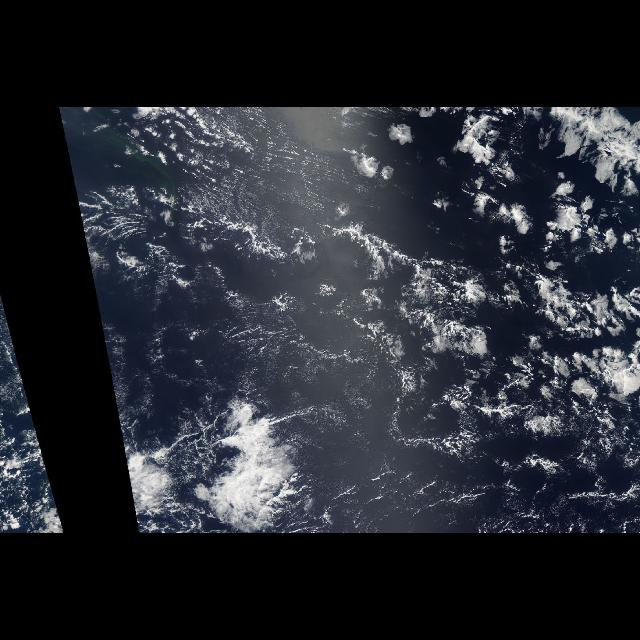Fish: (517, 108, 639, 402)
Flower: (388, 107, 640, 425), (157, 397, 356, 533)
Gravel: (84, 173, 290, 315)
Sugar: (129, 108, 357, 250)
